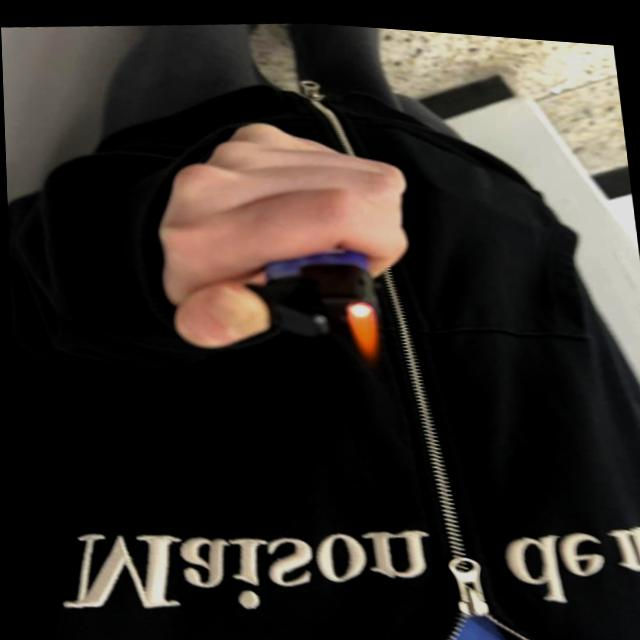helmet: (346, 302, 382, 363)
